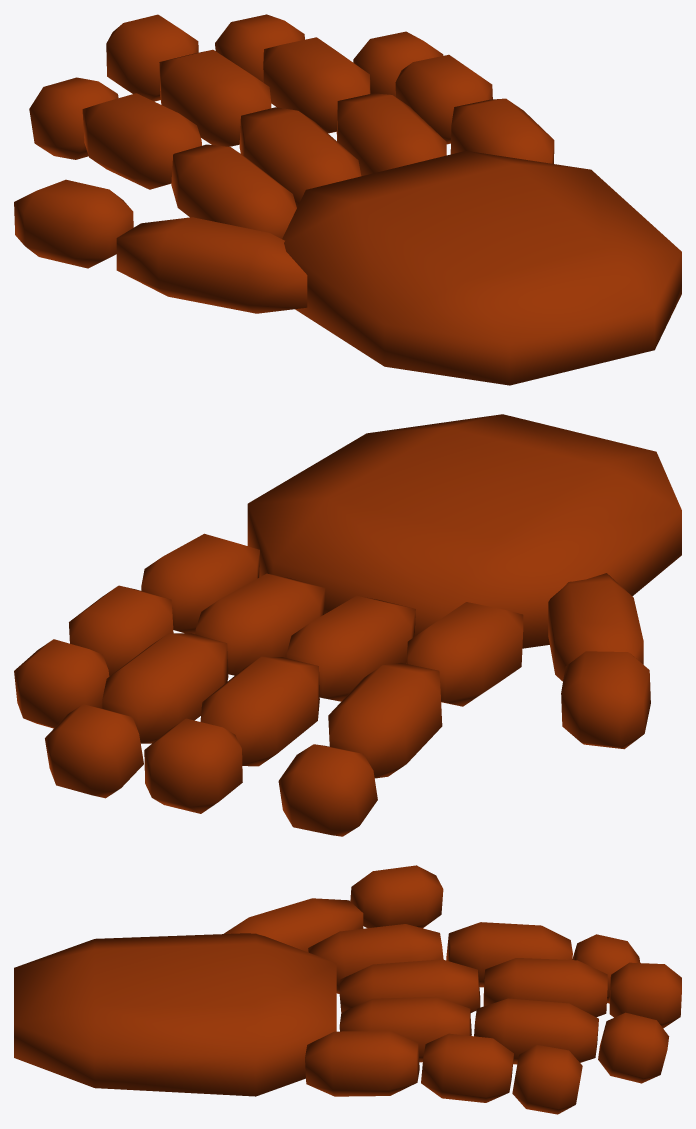
Rendered from mano.DAE.
3 views of the same model, one above another, from view 1: azimuth 30°, elevation 25°; view 2: azimuth 150°, elevation 25°; view 3: azimuth 270°, elevation 25° (orthographic). The views are drawn at different scales.
Parts seen in each view (by area): view 1: mano; view 2: mano; view 3: mano.
Part boxes in pixels (x1=…): mano: x1=14, y1=14, x2=681, y2=385; mano: x1=14, y1=414, x2=681, y2=836; mano: x1=14, y1=865, x2=681, y2=1114.
Size of the model in its own units: 6.89 by 10.05 by 1.33.
